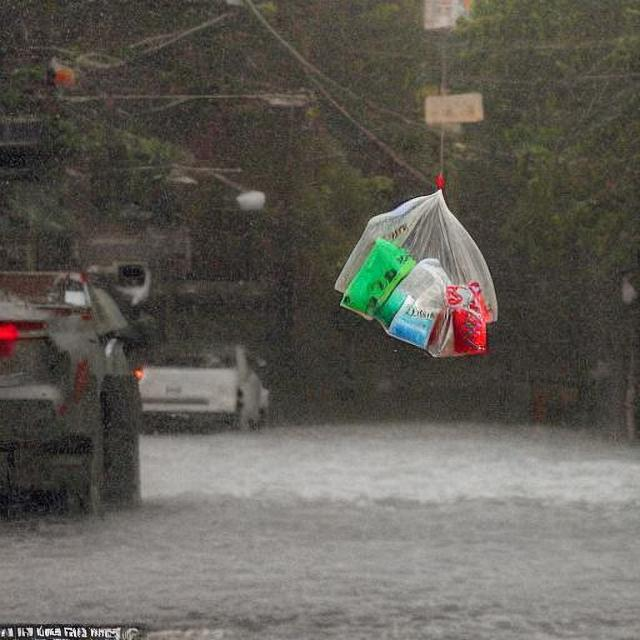plastic bag: (340, 182, 502, 362)
